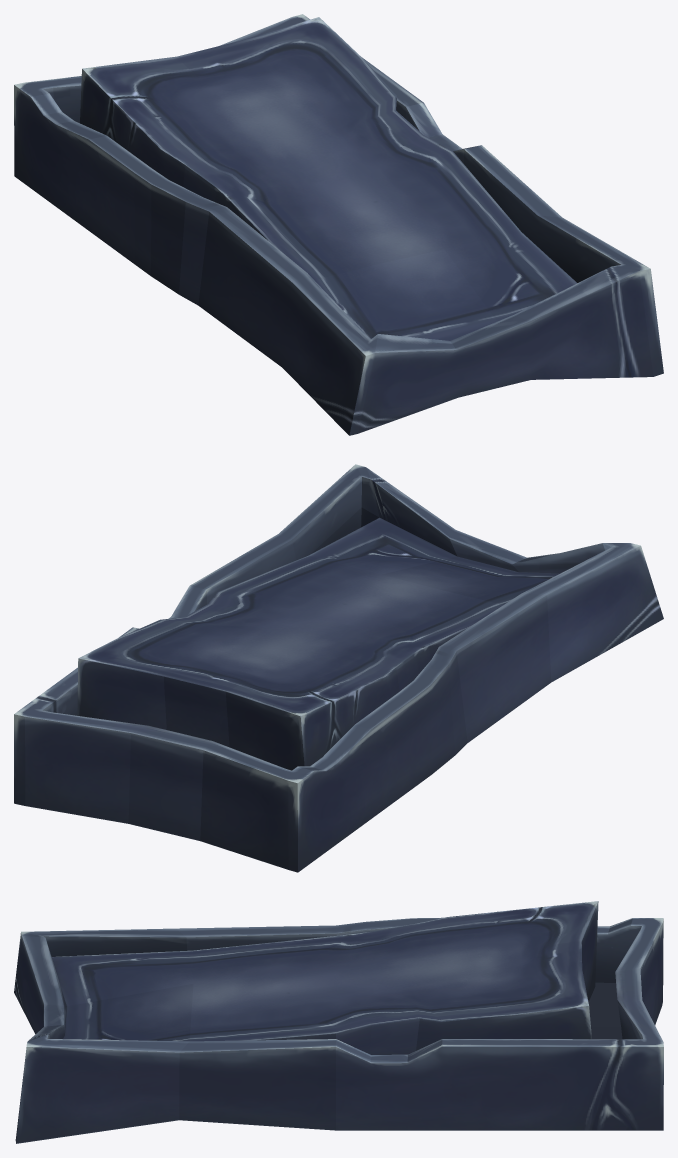
The model's file is tomb1_2.fbx.
The picture shows the model from 3 angles, top to bottom: view 1: azimuth 30°, elevation 25°; view 2: azimuth 150°, elevation 25°; view 3: azimuth 270°, elevation 25°; orthographic projection. The views are drawn at different scales.
Visible parts, largest first — view 1: Cube.015; view 2: Cube.015; view 3: Cube.015.
Boxes of the visible parts, x1,y1,x2,y2 form: Cube.015: (14,14,663,435); Cube.015: (14,464,663,872); Cube.015: (14,901,663,1143).
Bounding box in the file's own units: 357 × 149 × 697.
